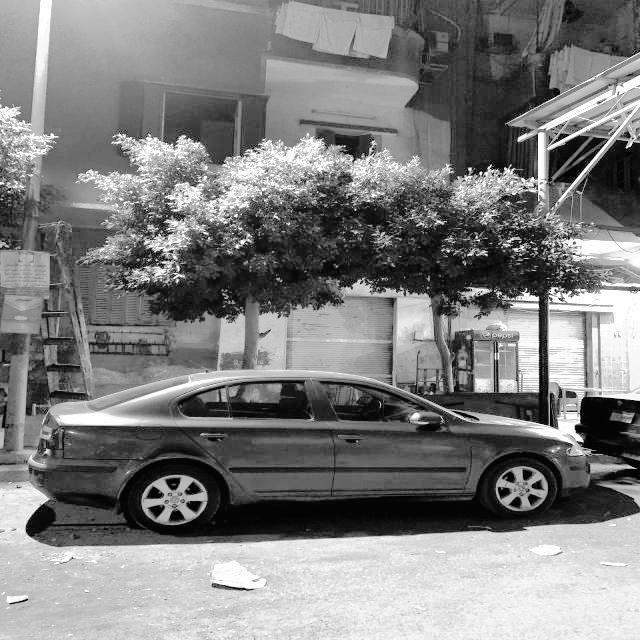Tree: (102, 128, 373, 396), (357, 140, 578, 399), (1, 101, 62, 232)
